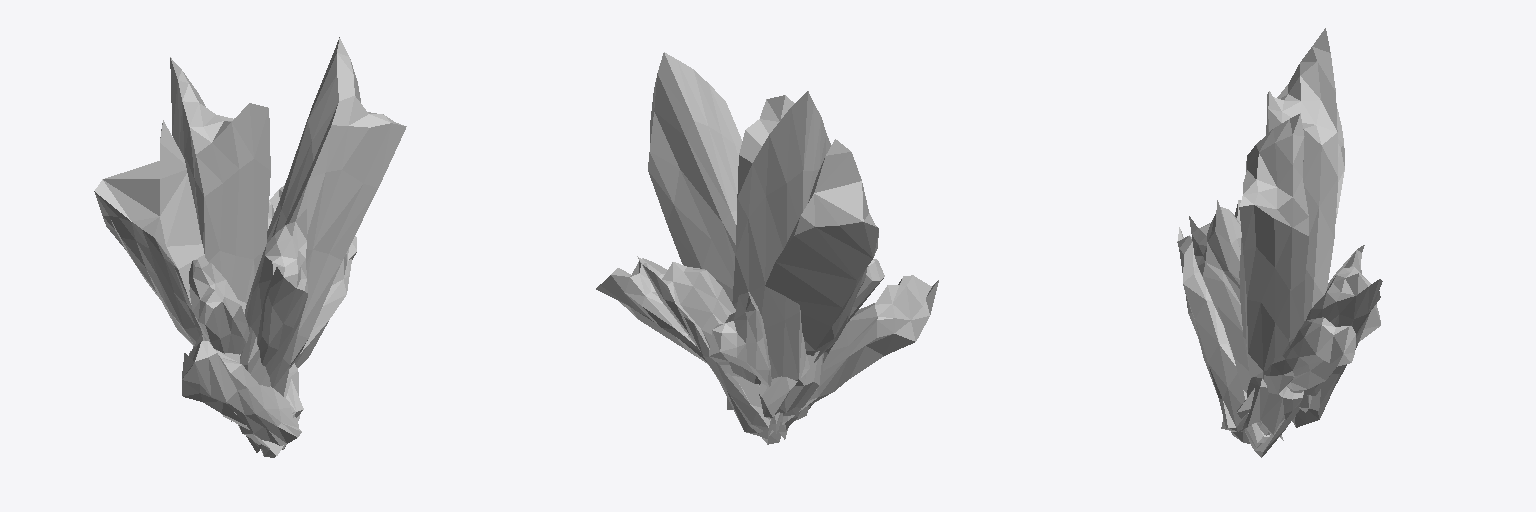
File: crystalFormation1.obj
3 views of the same model, side by side, from view 1: azimuth 30°, elevation 25°; view 2: azimuth 150°, elevation 25°; view 3: azimuth 270°, elevation 25° (orthographic).
Visible parts, largest first — view 1: Cube_Cube.010; view 2: Cube_Cube.010; view 3: Cube_Cube.010.
Boxes of the visible parts, x1=… form: Cube_Cube.010: x1=94, y1=37, x2=406, y2=457; Cube_Cube.010: x1=596, y1=52, x2=938, y2=444; Cube_Cube.010: x1=1177, y1=28, x2=1382, y2=457.
Bounding box in the file's own units: 8.26 × 11.42 × 5.37.